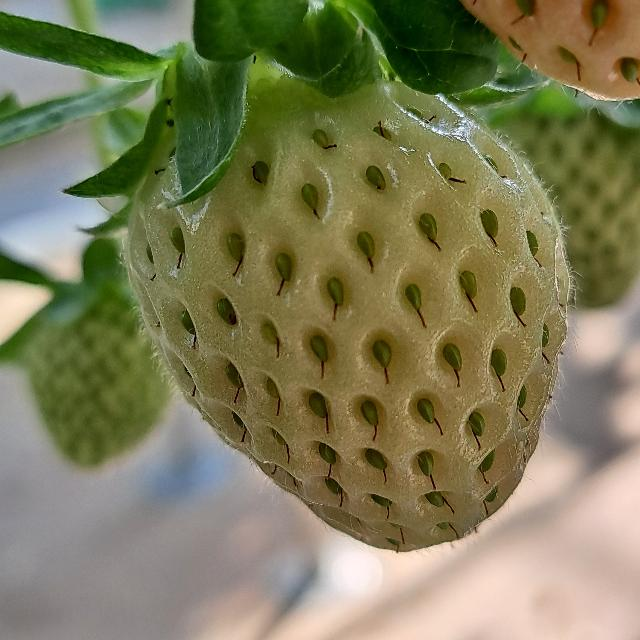Health_25: (125, 73, 570, 551)
